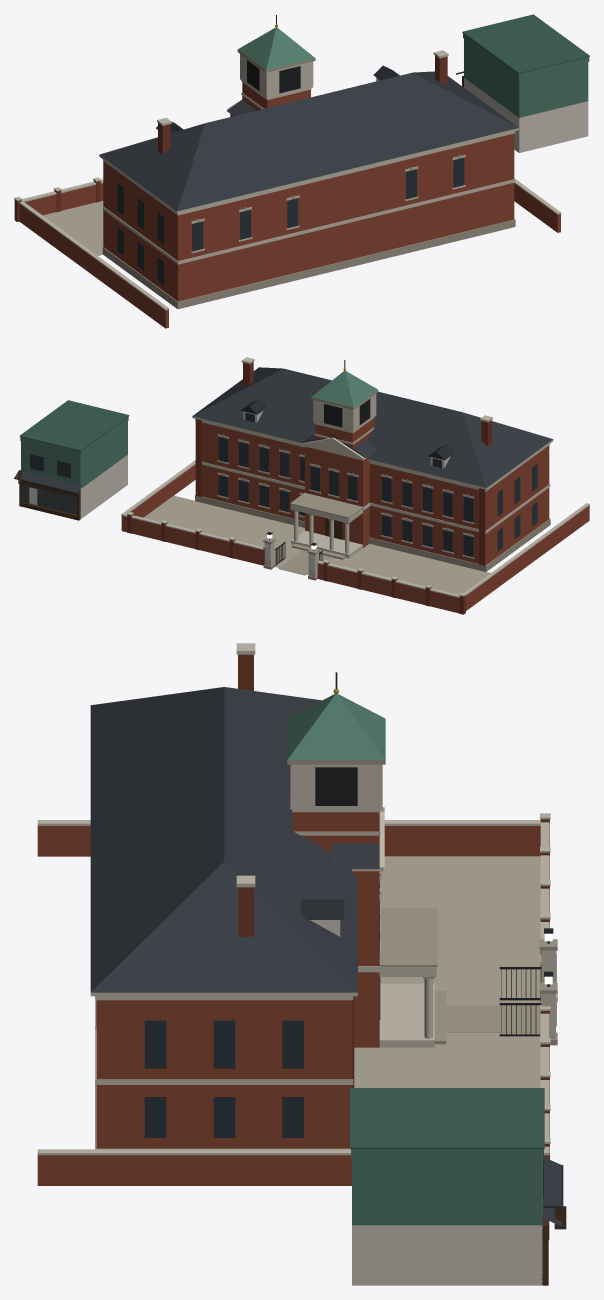
The model's file is kaisei.glb.
3 views of the same model, one above another, from view 1: azimuth 30°, elevation 25°; view 2: azimuth 150°, elevation 25°; view 3: azimuth 270°, elevation 25° (orthographic). The views are drawn at different scales.
Visible parts, largest first — view 1: kaisei_school_body, kaisei_shop_body; view 2: kaisei_school_body, kaisei_shop_body; view 3: kaisei_school_body, kaisei_shop_body.
Boxes of the visible parts, box(x1,y1,x2,y2) form: kaisei_school_body: box(14, 15, 561, 328); kaisei_shop_body: box(456, 14, 589, 152); kaisei_school_body: box(121, 357, 589, 614); kaisei_shop_body: box(14, 400, 129, 520); kaisei_school_body: box(37, 643, 557, 1185); kaisei_shop_body: box(350, 1088, 566, 1285).
Bounding box in the file's own units: 52.46 × 19.5 × 26.9.
